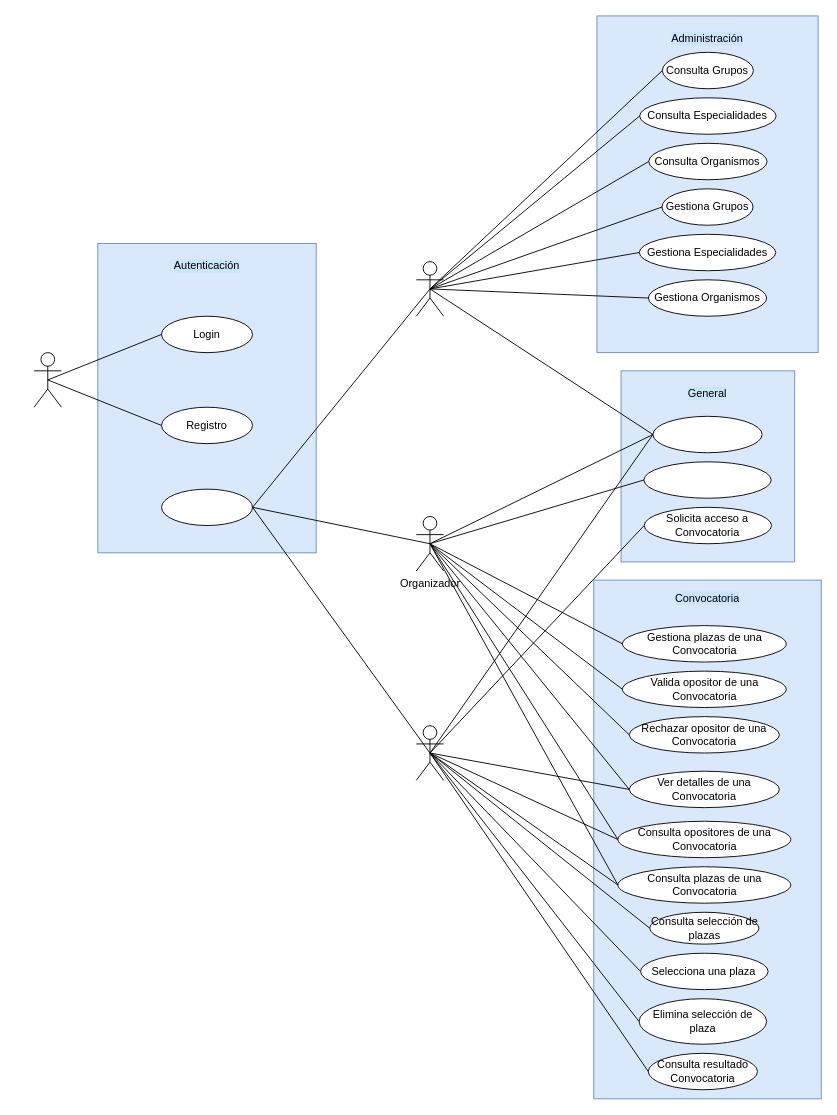
Image size: 837x1115. Some labels were removed from this diagram. Each missing label, with the centre of its shape:
"Administrador" goes at point (429, 288).
"Consulta Convocatorias" goes at point (707, 434).
"Gestiona Convocatoria" goes at point (707, 479).
"Logout" goes at point (207, 507).
"Opositor" goes at point (429, 752).
"Usuario no registrado" goes at point (47, 379).
